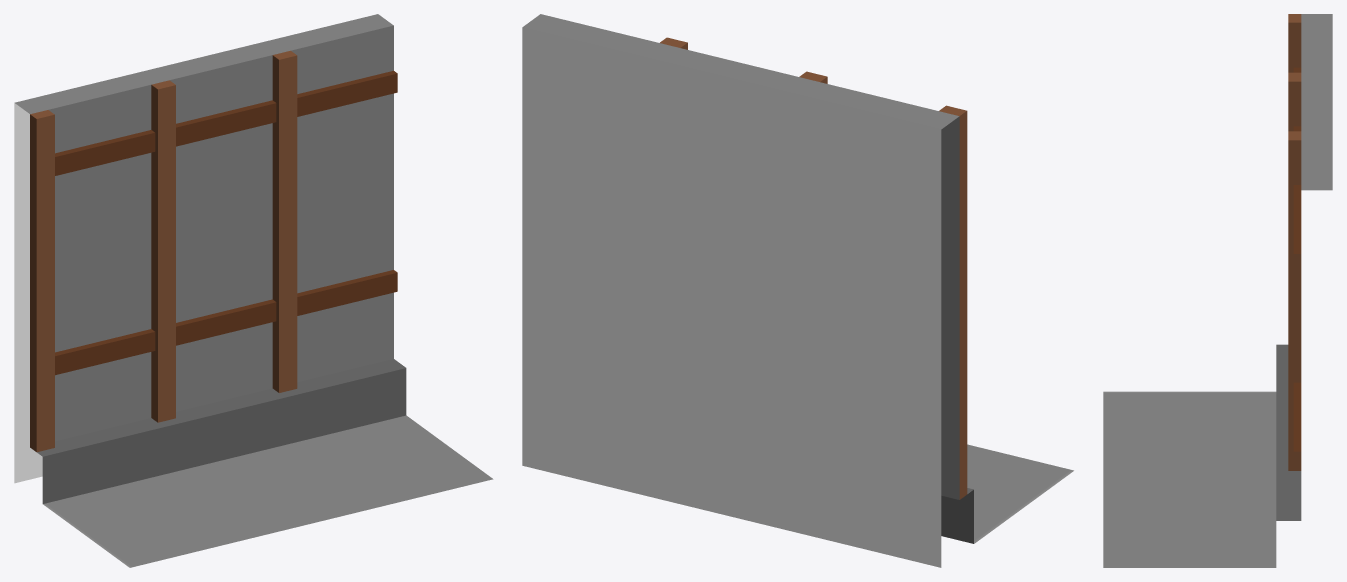
File: E_Wall_Straight_Bare_1.fbx
3 renders of one model, left to right at view 1: azimuth 30°, elevation 25°; view 2: azimuth 150°, elevation 25°; view 3: azimuth 270°, elevation 25°, orthographic. The views are drawn at different scales.
Parts seen in each view (by area): view 1: E_Wall_Straight_Bare; view 2: E_Wall_Straight_Bare; view 3: E_Wall_Straight_Bare.
Boxes of the visible parts, box(x1,y1,x2,y2) form: E_Wall_Straight_Bare: box(14, 14, 493, 567); E_Wall_Straight_Bare: box(522, 14, 1073, 567); E_Wall_Straight_Bare: box(1103, 14, 1332, 567).
Bounding box in the file's own units: 200 × 200 × 110.
